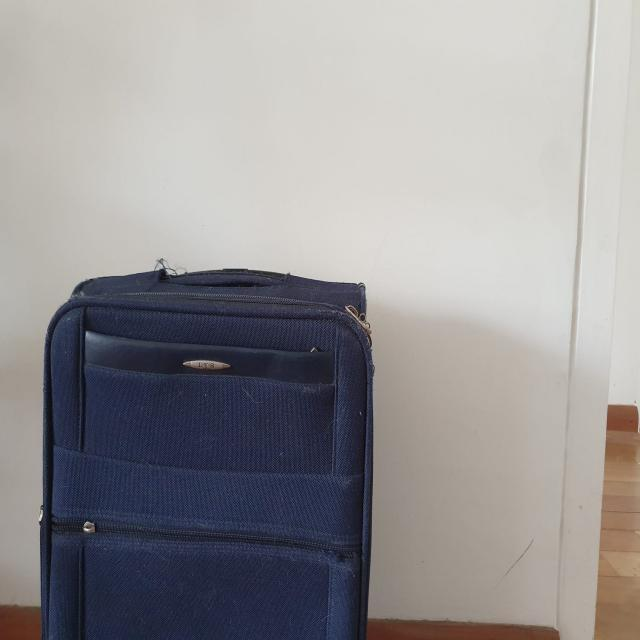Suitcase: (43, 253, 375, 640)
